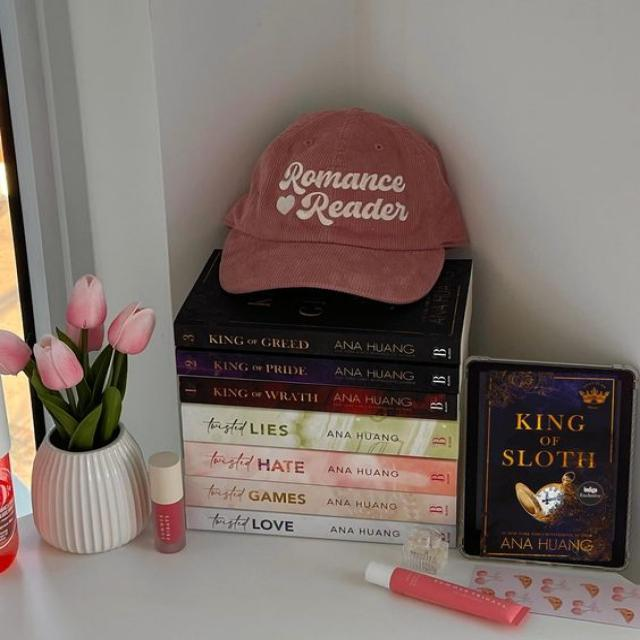book: (182, 405, 459, 459), (184, 443, 456, 496), (177, 346, 460, 395), (185, 477, 455, 526), (180, 377, 459, 421), (175, 324, 463, 366), (186, 506, 455, 547)
flowers: (0, 276, 153, 553)
